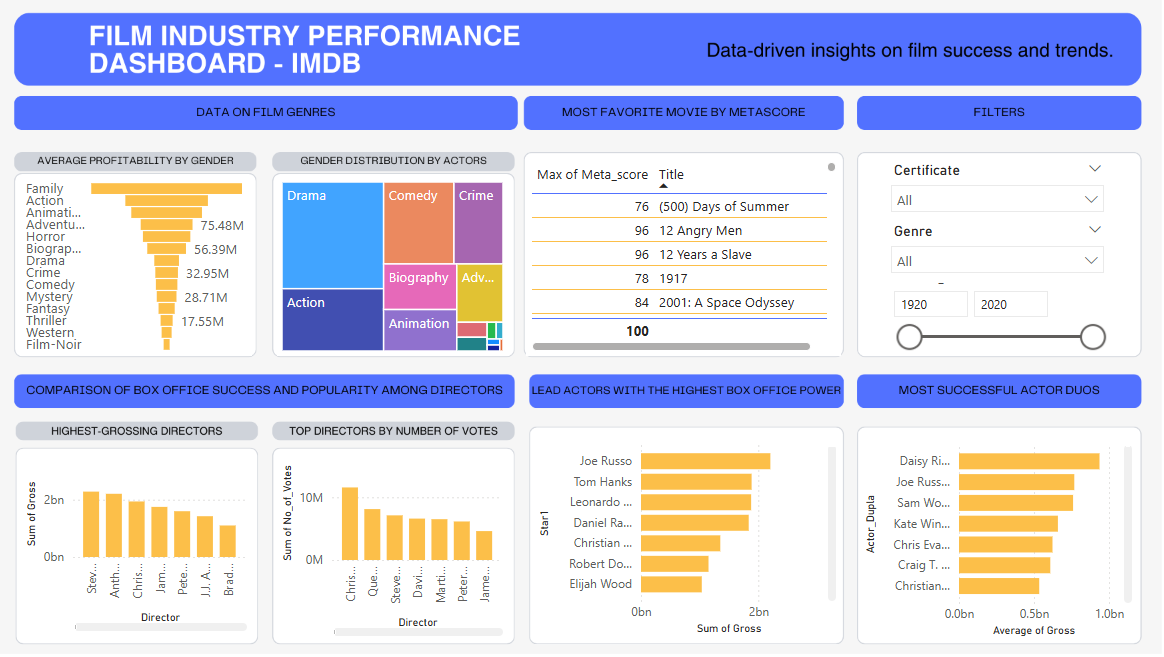

Layout of this report page (visuals, bound fields, positions):
{"tool":"powerbi","page":{"name":"Page 1","canvas":[1280,720],"ordinal":0},"visuals":[{"type":"columnChart","fields":{"Category":["imdb_project imdb_data.Director"],"Y":["imdb_project imdb_data.Gross"]},"box":[81.7,490.8,231.7,179.2],"z":0},{"type":"barChart","fields":{"Category":["imdb_project imdb_data.Star1"],"Y":["imdb_project imdb_data.Gross"]},"box":[595,465.8,306.7,207.5],"z":1000},{"type":"clusteredColumnChart","fields":{"Category":["imdb_project imdb_data.Director"],"Y":["imdb_project imdb_data.No_of_Votes"]},"box":[337.5,485.8,231.7,189.2],"z":2000},{"type":"treemap","fields":{"Group":["imdb_project imdb_data.Genre"],"Values":["imdb_project imdb_data.Star1"]},"box":[337.5,210.8,231.7,179.2],"z":3000},{"type":"barChart","fields":{"Y":["imdb_project imdb_data.Gross"],"Category":["imdb_project imdb_data.Actor_Dupla"]},"box":[920.8,465.8,276.7,209.2],"z":4000},{"type":"funnel","fields":{"Category":["imdb_project imdb_data.Genre"],"Y":["imdb_project imdb_data.Gross"]},"box":[81.7,210.8,231.7,179.2],"z":5000},{"type":"slicer","fields":{"Values":["imdb_project imdb_data.Certificate"]},"box":[942.5,190.6,232.5,61.3],"z":6000},{"type":"slicer","fields":{"Values":["imdb_project imdb_data.Released_Year"]},"box":[942.5,300.5,232.5,89.5],"z":7000},{"type":"slicer","fields":{"Values":["imdb_project imdb_data.Genre"]},"box":[942.5,251.9,232.5,65.2],"z":8000},{"type":"tableEx","fields":{"Values":["imdb_data.Meta_score","imdb_data.Title"]},"box":[587.5,190.6,314.2,199.4],"z":9000}]}

Visuals, with their boxes in screenshot pixels (x1, y1, x2, y2), scaled from the page's 1280x720 canvas onto the 1164x657 screenshot:
columnChart - imdb_project imdb_data.Director x imdb_project imdb_data.Gross: 74 448 285 611
barChart - imdb_project imdb_data.Star1 x imdb_project imdb_data.Gross: 541 425 820 614
clusteredColumnChart - imdb_project imdb_data.Director x imdb_project imdb_data.No_of_Votes: 307 443 518 616
treemap - imdb_project imdb_data.Genre x imdb_project imdb_data.Star1: 307 192 518 356
barChart - imdb_project imdb_data.Gross x imdb_project imdb_data.Actor_Dupla: 837 425 1089 616
funnel - imdb_project imdb_data.Genre x imdb_project imdb_data.Gross: 74 192 285 356
slicer - imdb_project imdb_data.Certificate: 857 174 1069 230
slicer - imdb_project imdb_data.Released_Year: 857 274 1069 356
slicer - imdb_project imdb_data.Genre: 857 230 1069 289
tableEx - imdb_data.Meta_score x imdb_data.Title: 534 174 820 356
